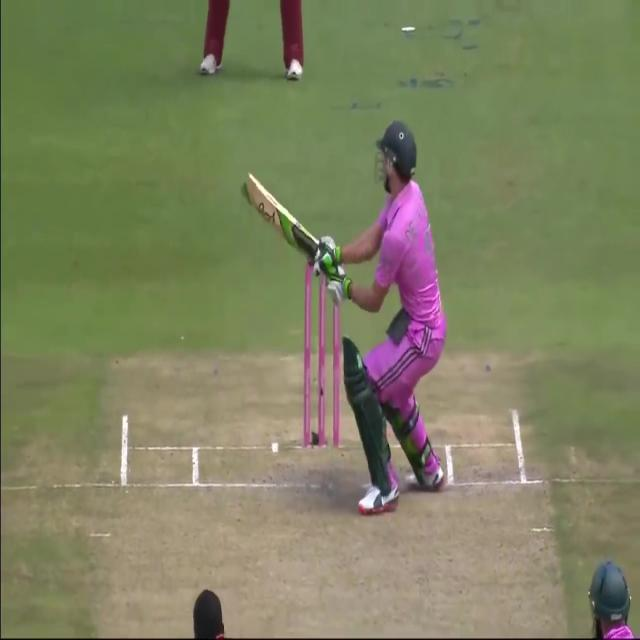Ball: (299, 119, 449, 509)
